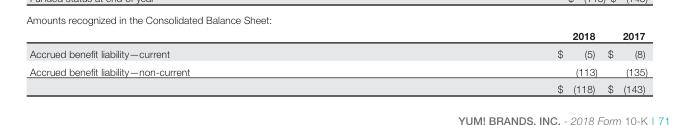table: (28, 28, 646, 94)
table column: (28, 28, 372, 94), (372, 28, 601, 94), (601, 28, 646, 94)
table column header: (28, 28, 646, 44)
table row: (28, 44, 646, 62), (28, 62, 646, 79), (28, 28, 646, 44), (28, 79, 646, 94)
